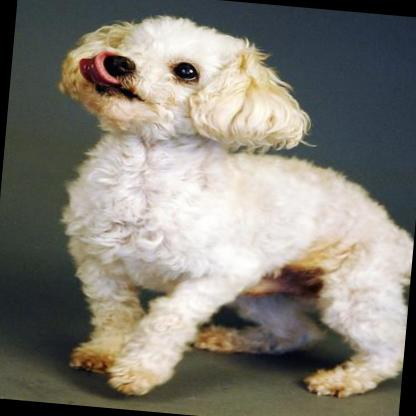toy_poodle: (25, 4, 416, 412)
